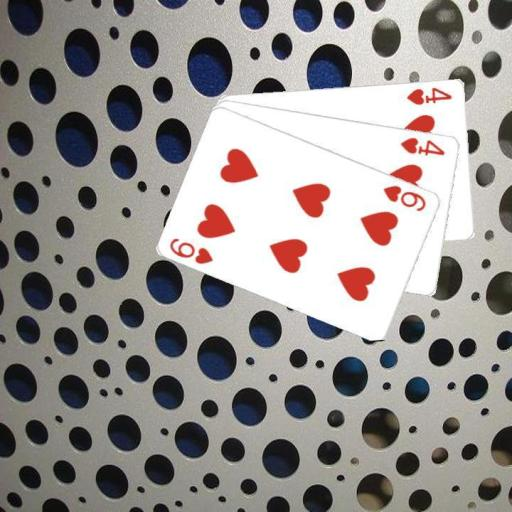card-corner: (166, 235, 215, 266), (381, 181, 428, 213), (404, 83, 454, 106), (398, 134, 446, 157)
